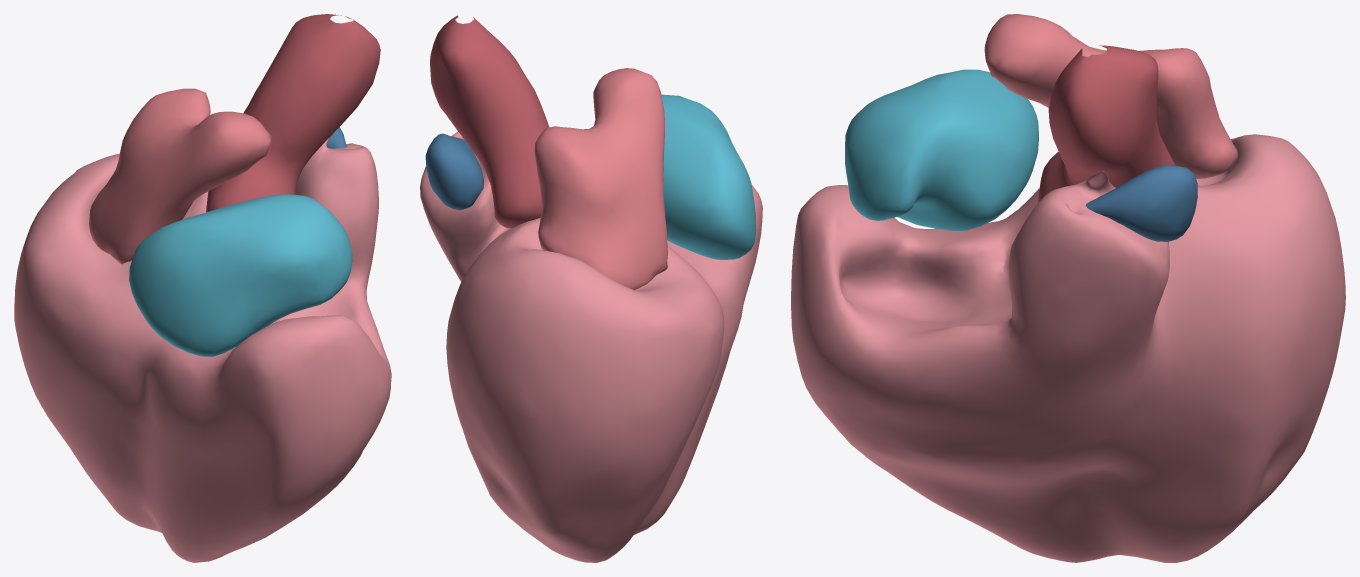
Rendered from frame_2.glb.
3 renders of one model, left to right at view 1: azimuth 30°, elevation 25°; view 2: azimuth 150°, elevation 25°; view 3: azimuth 270°, elevation 25°, orthographic. The views are drawn at different scales.
Parts seen in each view (by area): view 1: Renderer Node; view 2: Renderer Node; view 3: Renderer Node.
Boxes of the visible parts, box(x1,y1,x2,y2) form: Renderer Node: box(14, 14, 391, 562); Renderer Node: box(420, 15, 762, 562); Renderer Node: box(791, 14, 1345, 562).
Size of the model in its own units: 107 by 164 by 137.
